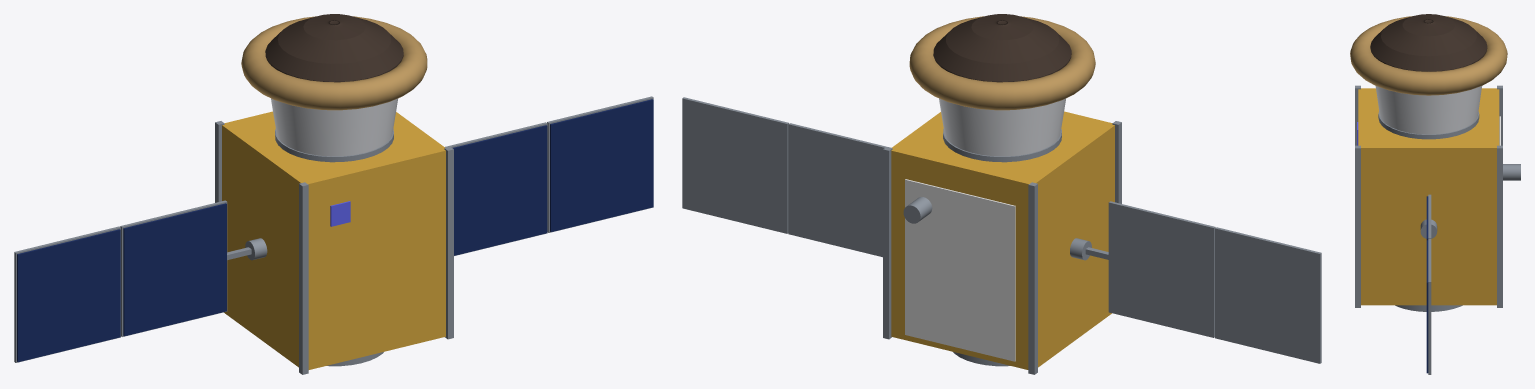
File: SP-IMM.glb
3 renders of one model, left to right at view 1: azimuth 30°, elevation 25°; view 2: azimuth 150°, elevation 25°; view 3: azimuth 270°, elevation 25°, orthographic. The views are drawn at different scales.
Visible parts, largest first — view 1: service_module_structure, solar_panel_+X2, solar_panel_-X1, solar_panel_-X2, solar_panel_+X1, nose, heat_shield_packed, capsule_backshell, corner_rail_-X-Y, corner_rail_+X-Y, panel_frame_-X2, panel_frame_-X1 (+4 smaller); view 2: service_module_structure, radiator_+Y_face, panel_frame_-X2, panel_frame_+X2, panel_frame_-X1, panel_frame_+X1, nose, heat_shield_packed, capsule_backshell, corner_rail_-X+Y, corner_rail_+X+Y, separation_interface (+2 smaller); view 3: service_module_structure, nose, heat_shield_packed, capsule_backshell, corner_rail_+X-Y, corner_rail_+X+Y, separation_interface, panel_frame_+X2, solar_panel_+X2, launch_separation_ring, star_tracker, corner_rail_-X+Y (+3 smaller).
Boxes of the visible parts, x1=… form: service_module_structure: x1=222, y1=111, x2=445, y2=369; solar_panel_+X2: x1=550, y1=99, x2=653, y2=231; solar_panel_-X1: x1=123, y1=203, x2=226, y2=336; solar_panel_-X2: x1=17, y1=229, x2=120, y2=362; solar_panel_+X1: x1=452, y1=125, x2=547, y2=255; nose: x1=265, y1=14, x2=403, y2=82; heat_shield_packed: x1=241, y1=16, x2=427, y2=110; capsule_backshell: x1=271, y1=98, x2=398, y2=156; corner_rail_-X-Y: x1=299, y1=182, x2=308, y2=374; corner_rail_+X-Y: x1=444, y1=147, x2=453, y2=339; panel_frame_-X2: x1=14, y1=226, x2=120, y2=362; panel_frame_-X1: x1=120, y1=200, x2=227, y2=336; service_module_structure: x1=891, y1=111, x2=1114, y2=369; radiator_+Y_face: x1=905, y1=179, x2=1015, y2=361; panel_frame_-X2: x1=1215, y1=227, x2=1321, y2=363; panel_frame_+X2: x1=682, y1=97, x2=788, y2=233; panel_frame_-X1: x1=1108, y1=201, x2=1215, y2=337; panel_frame_+X1: x1=788, y1=123, x2=891, y2=257; nose: x1=933, y1=14, x2=1071, y2=82; heat_shield_packed: x1=909, y1=16, x2=1095, y2=110; capsule_backshell: x1=939, y1=98, x2=1066, y2=156; corner_rail_-X+Y: x1=1028, y1=182, x2=1037, y2=374; corner_rail_+X+Y: x1=883, y1=147, x2=892, y2=339; separation_interface: x1=943, y1=129, x2=1061, y2=162; service_module_structure: x1=1358, y1=88, x2=1499, y2=305; nose: x1=1370, y1=14, x2=1487, y2=71; heat_shield_packed: x1=1350, y1=16, x2=1507, y2=95; capsule_backshell: x1=1375, y1=86, x2=1481, y2=134; corner_rail_+X-Y: x1=1355, y1=145, x2=1360, y2=307; corner_rail_+X+Y: x1=1497, y1=145, x2=1502, y2=307; separation_interface: x1=1378, y1=111, x2=1479, y2=139; panel_frame_+X2: x1=1428, y1=238, x2=1431, y2=374; solar_panel_+X2: x1=1426, y1=240, x2=1428, y2=373; launch_separation_ring: x1=1395, y1=305, x2=1462, y2=311; star_tracker: x1=1503, y1=164, x2=1520, y2=180; corner_rail_-X+Y: x1=1497, y1=85, x2=1502, y2=145.
Bounding box in the file's own units: 2.61 × 1.26 × 0.716.
